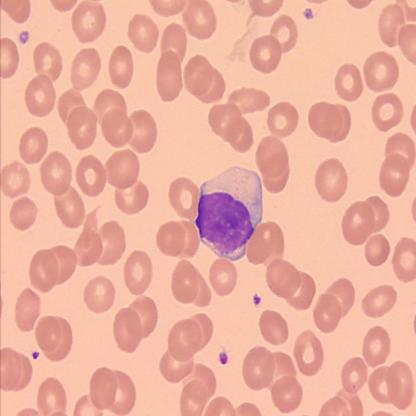Atypical lymphocyte: (196, 168, 263, 260)
